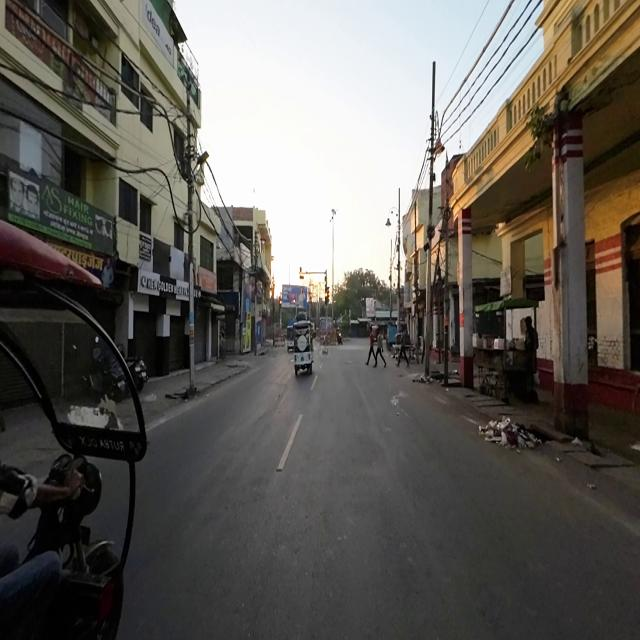Garbage: (476, 417, 546, 450)
